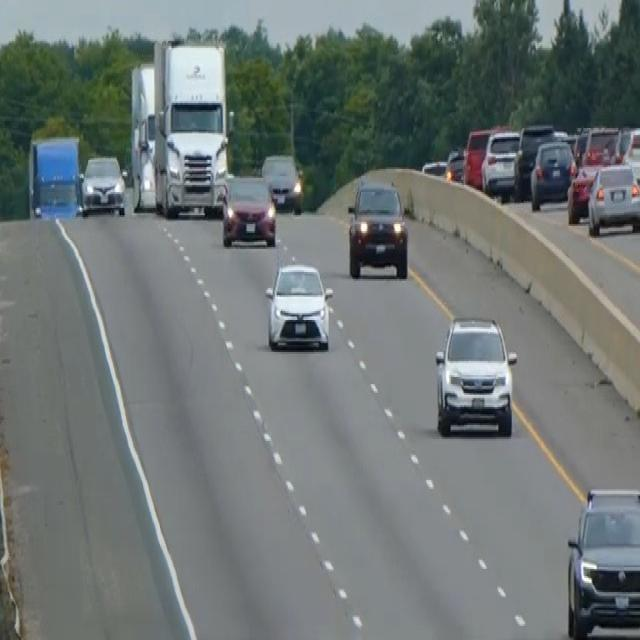car: (565, 484, 639, 638), (264, 258, 333, 352), (220, 173, 277, 247), (586, 160, 639, 235), (529, 137, 576, 210), (513, 121, 554, 195), (80, 153, 126, 215), (480, 128, 520, 199), (260, 151, 303, 213), (462, 126, 492, 187), (582, 123, 619, 167), (444, 146, 465, 183), (421, 156, 448, 178)
jeep: (432, 309, 519, 439), (346, 178, 409, 279)
lorry: (128, 37, 230, 217), (26, 132, 84, 220)
